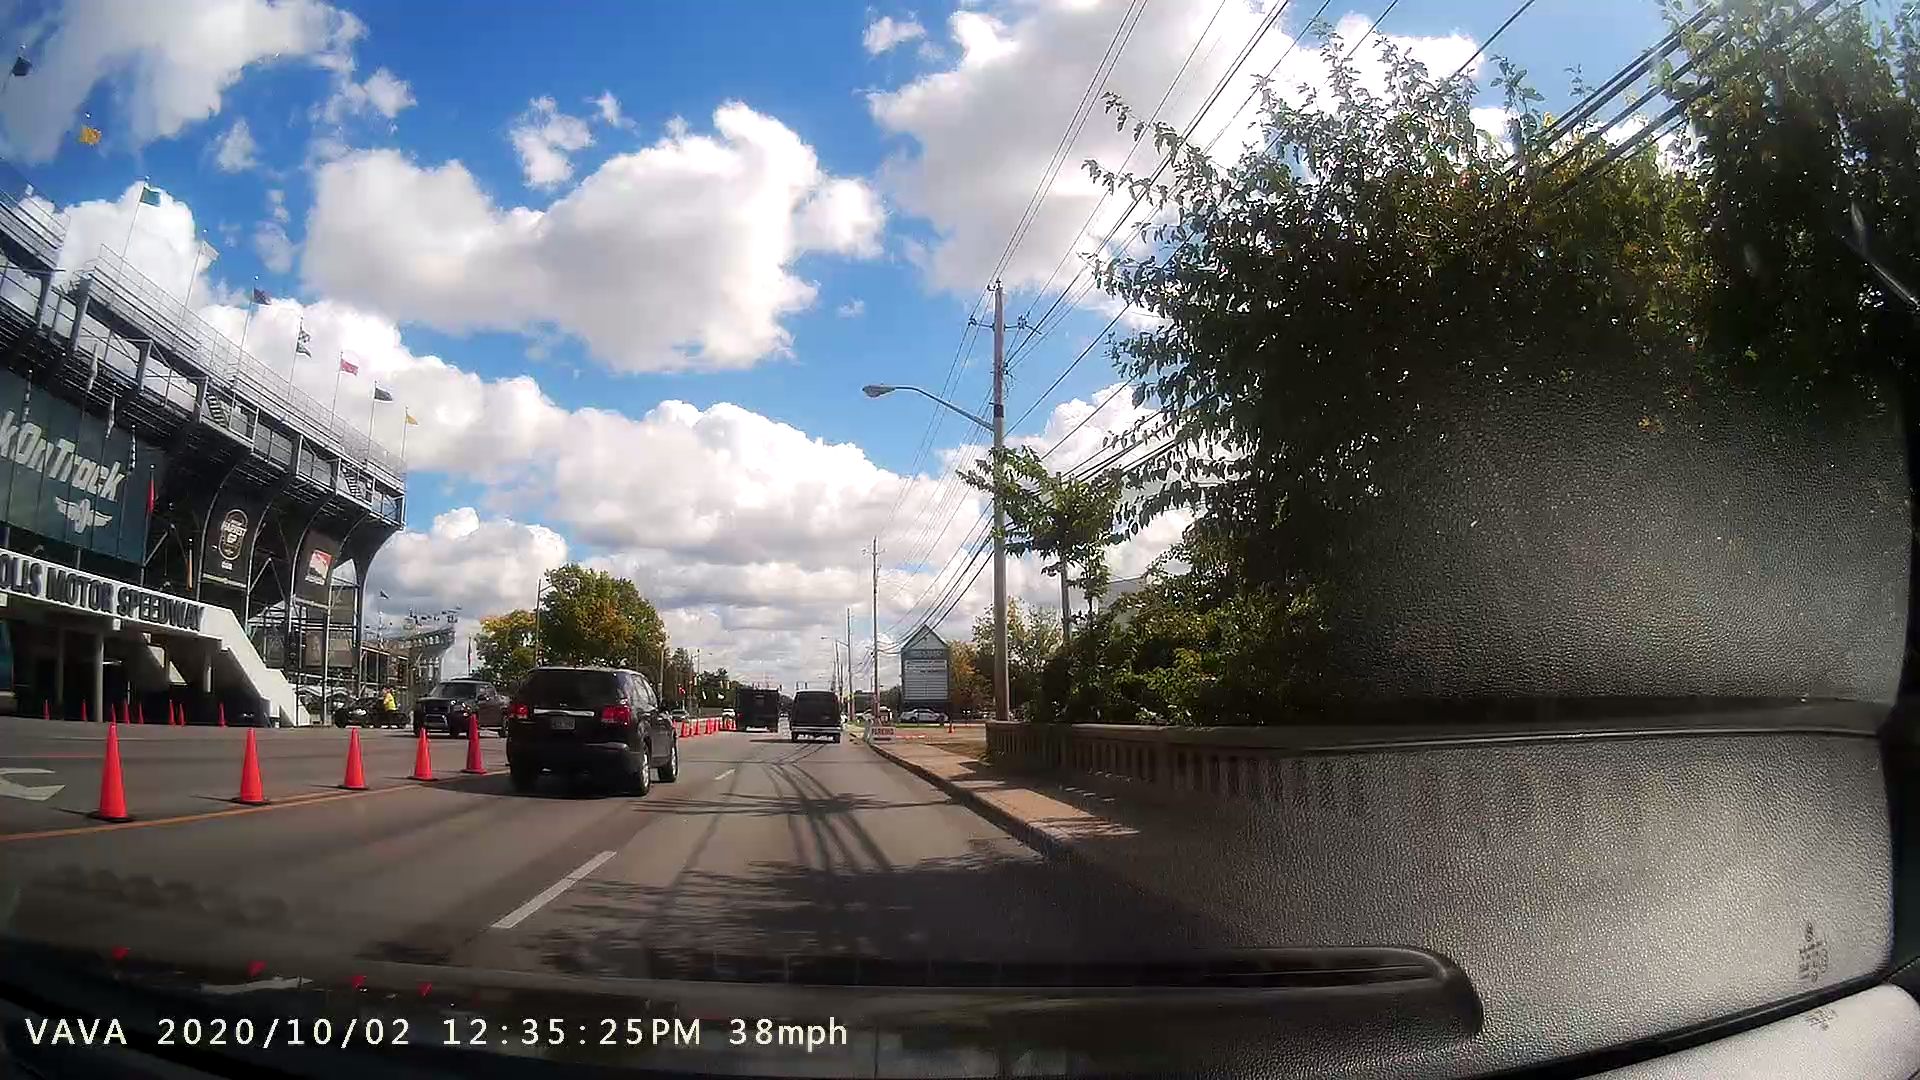const_cone: (70, 709, 146, 836), (225, 723, 280, 814), (334, 724, 376, 800), (458, 709, 496, 782), (404, 717, 439, 789)
